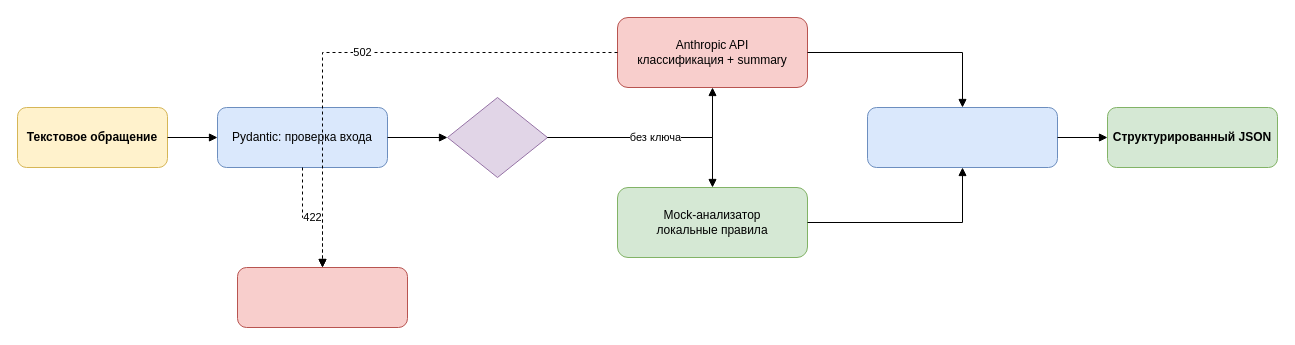
Image size: 1295x345. Some labels were removed from this diagram. The centre of each missing label's shape, as x and y in pixels:
Pydantic: проверка результата: point (962, 137)
Режим?: point (497, 137)
Структурированная ошибка: point (322, 297)
